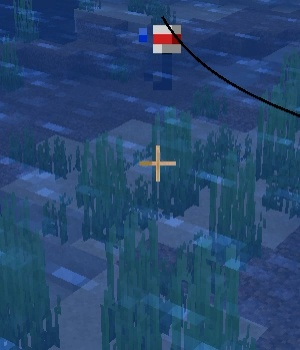up: (144, 17, 188, 91)
